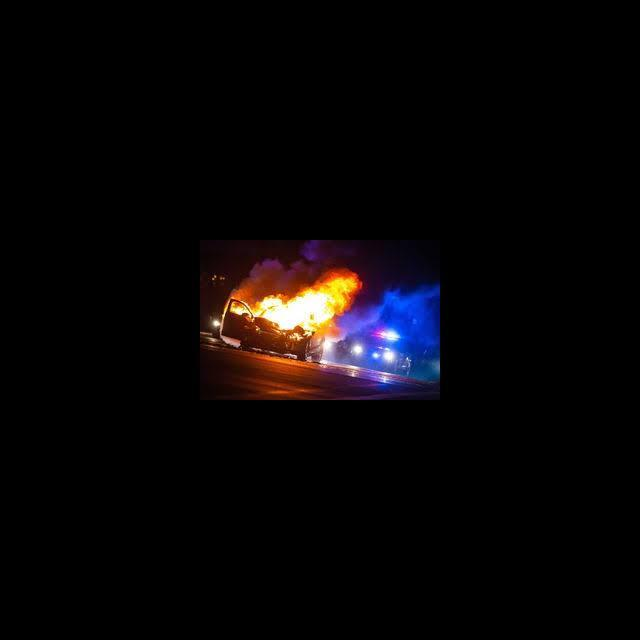Fire: (255, 270, 362, 328), (221, 286, 254, 322)
